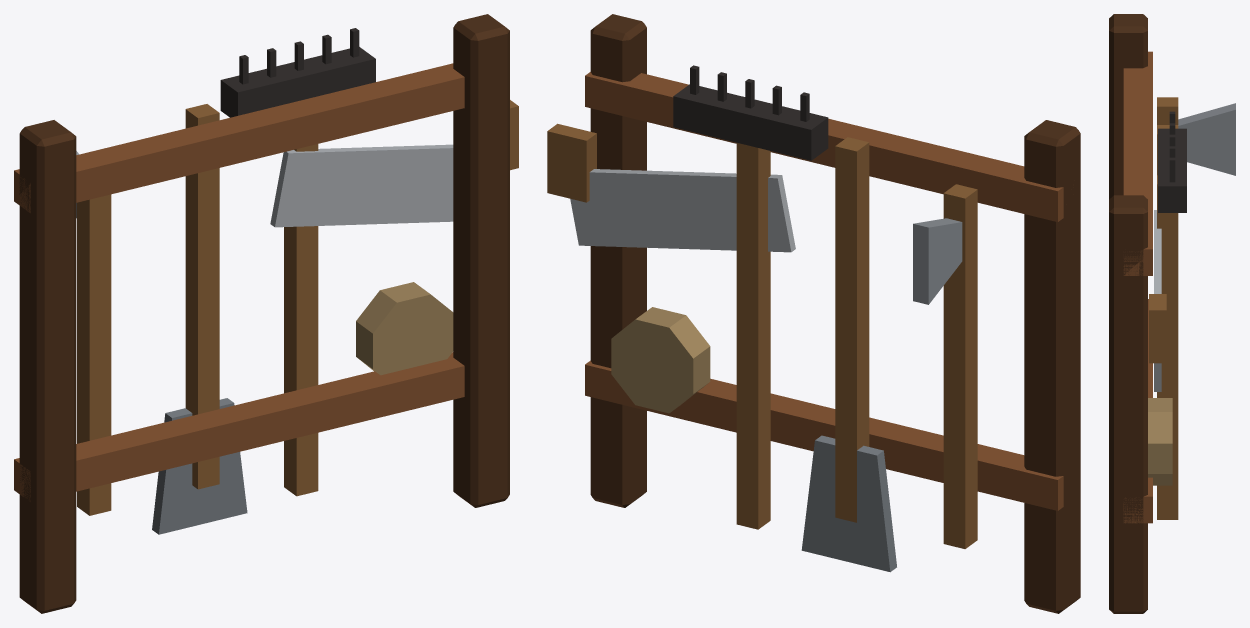
The model's file is ToolRack.glb.
3 renders of one model, left to right at view 1: azimuth 30°, elevation 25°; view 2: azimuth 150°, elevation 25°; view 3: azimuth 270°, elevation 25°, orthographic. The views are drawn at different scales.
Parts seen in each view (by area): view 1: Body; view 2: Body; view 3: Body.
Boxes of the visible parts, x1=… form: Body: x1=14, y1=14, x2=518, y2=613; Body: x1=547, y1=14, x2=1080, y2=613; Body: x1=1109, y1=14, x2=1235, y2=613.
Size of what is drawn, in the model's own units: 5.1 by 4.6 by 1.3.
